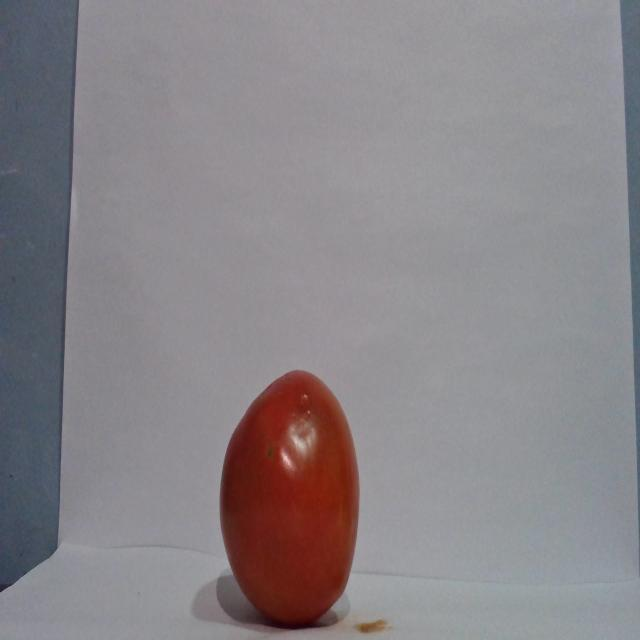Red: (217, 368, 360, 627)
